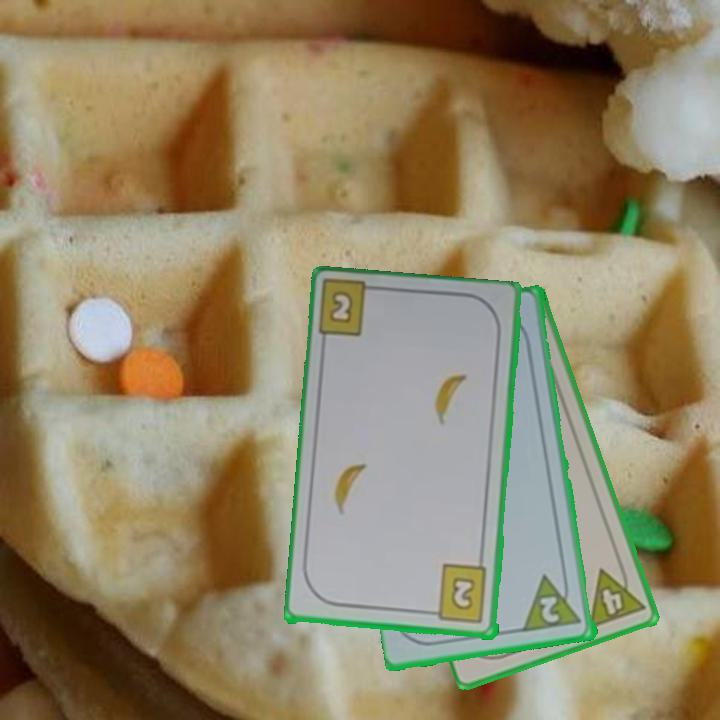2b: (425, 562, 490, 626), (326, 291, 355, 327)
2p: (537, 593, 563, 626)
4p: (585, 559, 648, 632)
